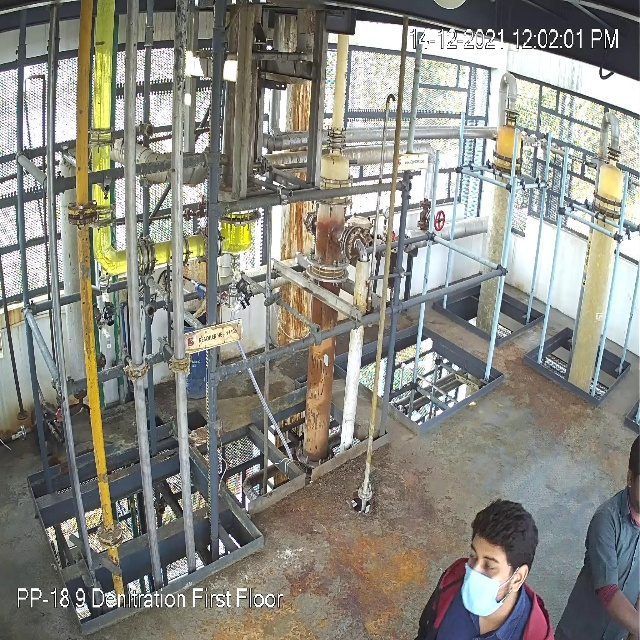Sin_gafas: (466, 545, 503, 572)
